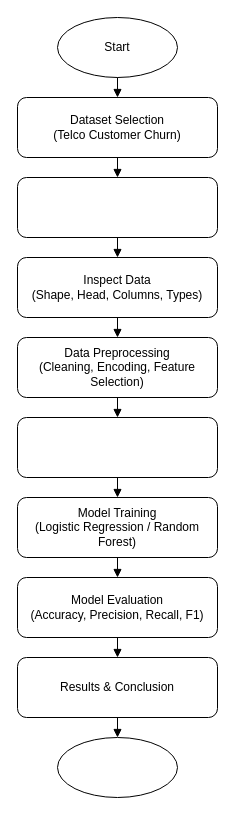
This 235x815 diagram has some shape labels left out. Here are the shapes that lost their labels. From the top down, the box of each, then its label:
(16, 176, 218, 238): Load Dataset (Pandas - Read CSV)
(16, 416, 218, 478): Train-Test Split (80% Train / 20% Test)
(56, 736, 178, 798): End
